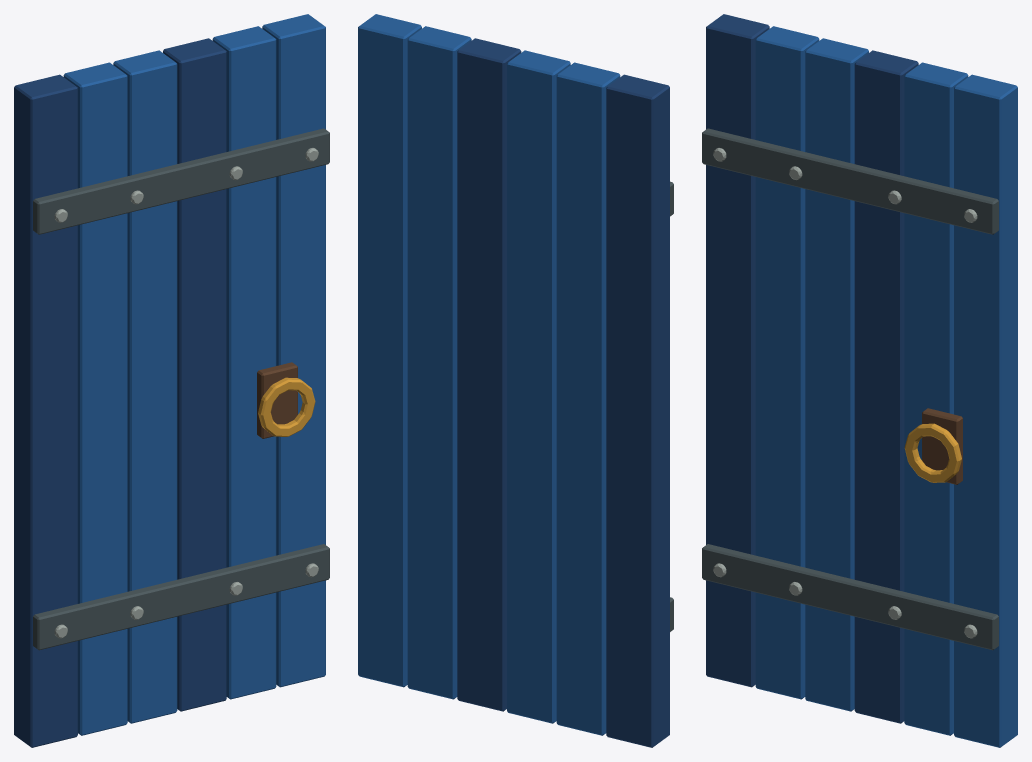
File: blue_door.glb
3 views of the same model, side by side, from view 1: azimuth 30°, elevation 25°; view 2: azimuth 150°, elevation 25°; view 3: azimuth 330°, elevation 25° (orthographic).
Parts seen in each view (by area): view 1: blue_door__door_hinge__azure, blue_door__door_hinge__navy, blue_door__door_hinge__metal, blue_door__door_hinge__brass, blue_door__door_hinge__wood_dark, blue_door__door_hinge__steel; view 2: blue_door__door_hinge__azure, blue_door__door_hinge__navy; view 3: blue_door__door_hinge__azure, blue_door__door_hinge__navy, blue_door__door_hinge__metal, blue_door__door_hinge__brass, blue_door__door_hinge__wood_dark, blue_door__door_hinge__steel.
Part boxes in pixels (bbox=[...]): blue_door__door_hinge__azure: bbox=[63, 14, 325, 735]; blue_door__door_hinge__navy: bbox=[14, 38, 226, 747]; blue_door__door_hinge__metal: bbox=[33, 128, 329, 650]; blue_door__door_hinge__brass: bbox=[258, 377, 315, 436]; blue_door__door_hinge__wood_dark: bbox=[257, 362, 297, 438]; blue_door__door_hinge__steel: bbox=[54, 148, 318, 638]; blue_door__door_hinge__azure: bbox=[358, 14, 620, 735]; blue_door__door_hinge__navy: bbox=[457, 38, 669, 747]; blue_door__door_hinge__azure: bbox=[755, 26, 1017, 747]; blue_door__door_hinge__navy: bbox=[706, 14, 918, 723]; blue_door__door_hinge__metal: bbox=[702, 128, 998, 650]; blue_door__door_hinge__brass: bbox=[904, 423, 961, 482]; blue_door__door_hinge__wood_dark: bbox=[922, 408, 962, 484]; blue_door__door_hinge__steel: bbox=[713, 148, 977, 638].
Bounding box in the file's own units: 1.13 × 2.38 × 0.225.
